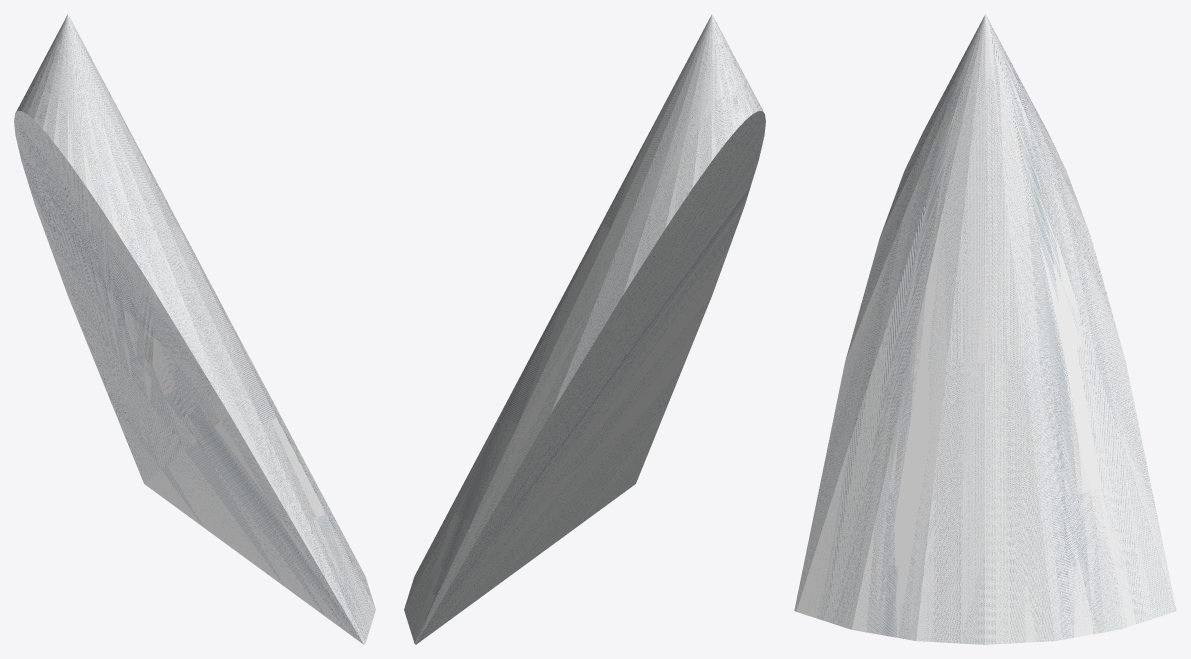
3 views of the same model, side by side, from view 1: azimuth 30°, elevation 25°; view 2: azimuth 150°, elevation 25°; view 3: azimuth 270°, elevation 25° (orthographic). The views are drawn at different scales.
Parts seen in each view (by area): view 1: Model; view 2: Model; view 3: Model.
Part boxes in pixels (x1,y1,x2,y2): Model: (14, 14, 375, 644); Model: (404, 14, 765, 644); Model: (794, 14, 1176, 644).
Bounding box in the file's own units: 40.31 × 74.71 × 50.
